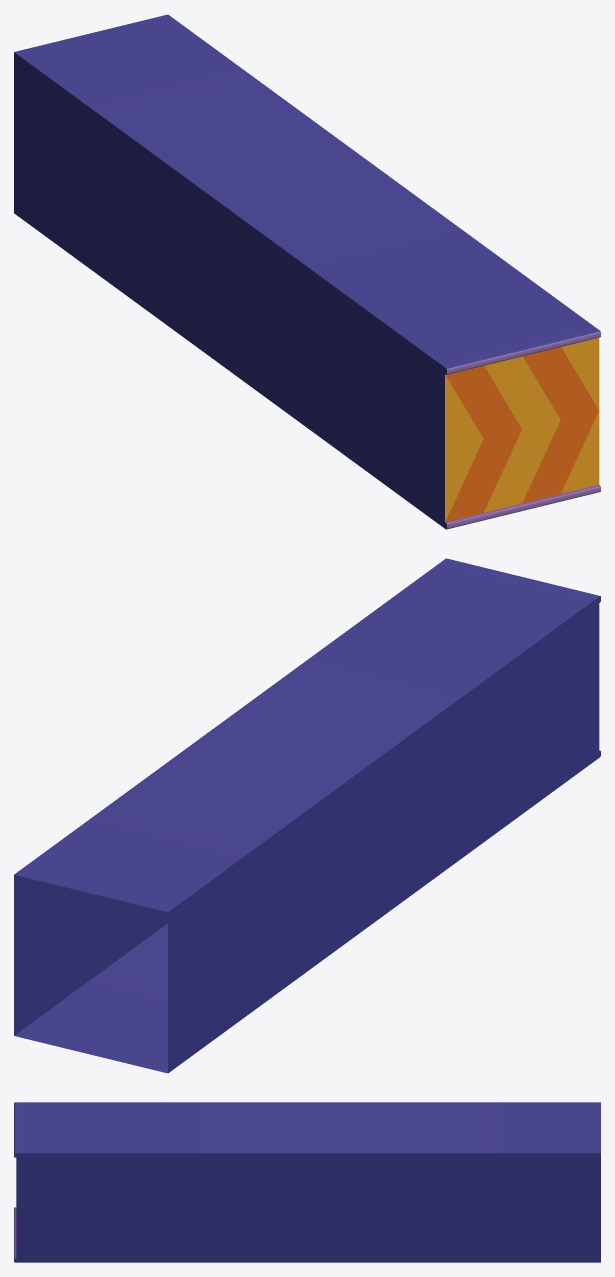
The model's file is Road_final_01.fbx.
3 views of the same model, one above another, from view 1: azimuth 30°, elevation 25°; view 2: azimuth 150°, elevation 25°; view 3: azimuth 270°, elevation 25° (orthographic). The views are drawn at different scales.
Visible parts, largest first — view 1: Road_final_01; view 2: Road_final_01; view 3: Road_final_01.
Part boxes in pixels (bbox=[...]): Road_final_01: bbox=[14, 14, 600, 529]; Road_final_01: bbox=[14, 558, 600, 1073]; Road_final_01: bbox=[14, 1102, 600, 1262].
Size of the model in its own units: 503 by 2447 by 503.
